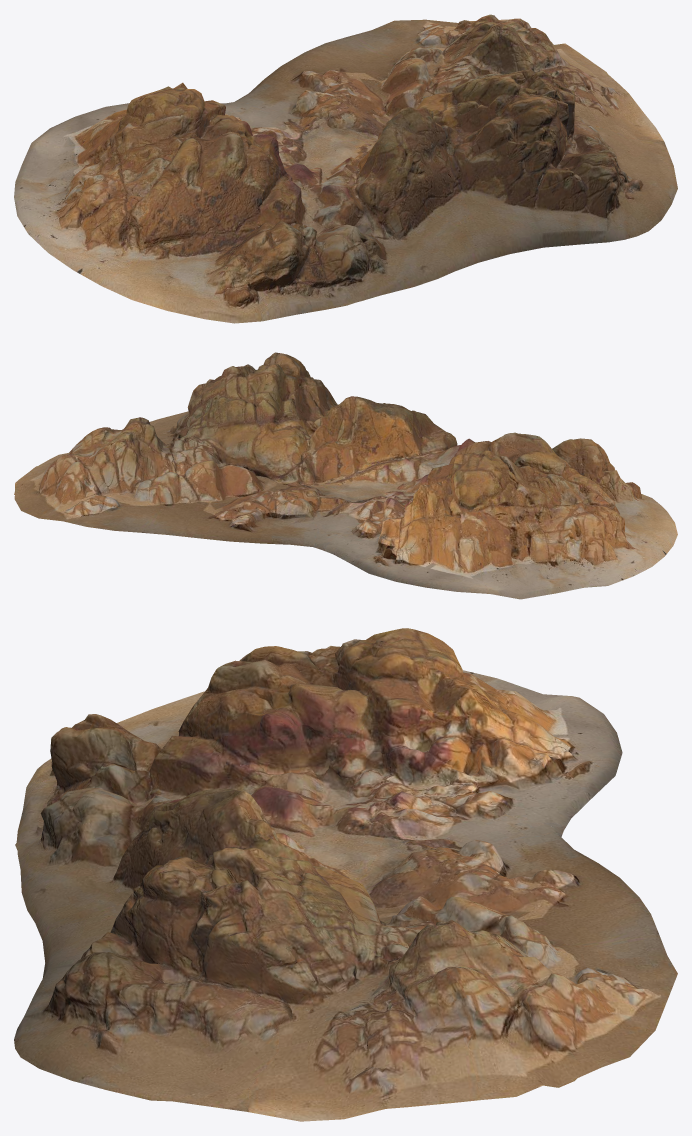
File: batu_besar.glb
The picture shows the model from 3 angles, top to bottom: view 1: azimuth 30°, elevation 25°; view 2: azimuth 150°, elevation 25°; view 3: azimuth 270°, elevation 25°; orthographic projection. The views are drawn at different scales.
Parts seen in each view (by area): view 1: Aset_rock_assembly_M_udxkec2fa_LOD2_43; view 2: Aset_rock_assembly_M_udxkec2fa_LOD2_43; view 3: Aset_rock_assembly_M_udxkec2fa_LOD2_43.
Part boxes in pixels (x1,y1,x2,y2): Aset_rock_assembly_M_udxkec2fa_LOD2_43: (14,14,677,323); Aset_rock_assembly_M_udxkec2fa_LOD2_43: (14,352,677,599); Aset_rock_assembly_M_udxkec2fa_LOD2_43: (14,628,677,1121).
Size of the model in its own units: 35.34 by 7.07 by 23.45.
Materials: 1 (1 with a texture image).
